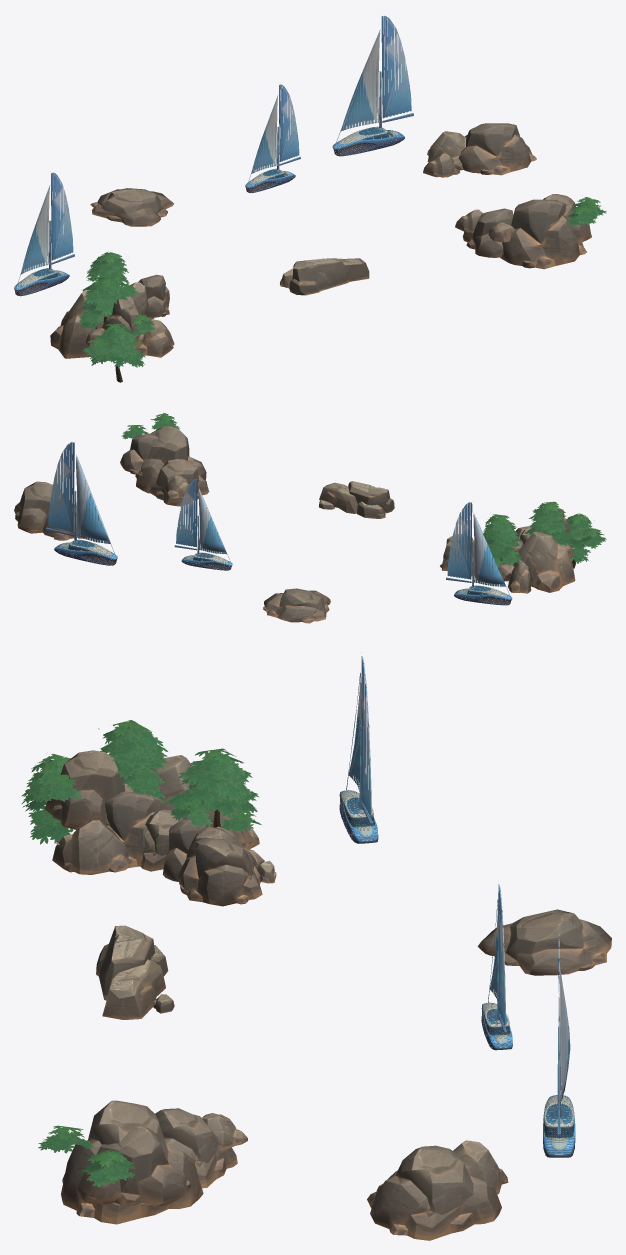
The model's file is pref_sm_4v4pointbake_WSJ_CSD_X_lv2.fbx.
3 renders of one model, top to bottom at view 1: azimuth 30°, elevation 25°; view 2: azimuth 150°, elevation 25°; view 3: azimuth 270°, elevation 25°, orthographic. The views are drawn at different scales.
Visible parts, largest first — view 1: sm_4v4pointbake_WSJ_CSD_X_b_lv2, sm_4v4pointbake_WSJ_CSD_X_c_lv2, sm_4v4pointbake_WSJ_CSD_X_a_lv2; view 2: sm_4v4pointbake_WSJ_CSD_X_b_lv2, sm_4v4pointbake_WSJ_CSD_X_c_lv2, sm_4v4pointbake_WSJ_CSD_X_a_lv2; view 3: sm_4v4pointbake_WSJ_CSD_X_b_lv2, sm_4v4pointbake_WSJ_CSD_X_a_lv2, sm_4v4pointbake_WSJ_CSD_X_c_lv2.
Part boxes in pixels (x1,y1,x2,y2): sm_4v4pointbake_WSJ_CSD_X_b_lv2: (50,123,591,358); sm_4v4pointbake_WSJ_CSD_X_c_lv2: (14,14,413,296); sm_4v4pointbake_WSJ_CSD_X_a_lv2: (79,197,606,382); sm_4v4pointbake_WSJ_CSD_X_b_lv2: (14,426,575,623); sm_4v4pointbake_WSJ_CSD_X_c_lv2: (46,441,512,605); sm_4v4pointbake_WSJ_CSD_X_a_lv2: (121,413,606,568); sm_4v4pointbake_WSJ_CSD_X_b_lv2: (44,750,611,1240); sm_4v4pointbake_WSJ_CSD_X_a_lv2: (21,720,261,1187); sm_4v4pointbake_WSJ_CSD_X_c_lv2: (339,652,575,1157).
Bounding box in the file's own units: 43.27 × 11.38 × 24.53.
